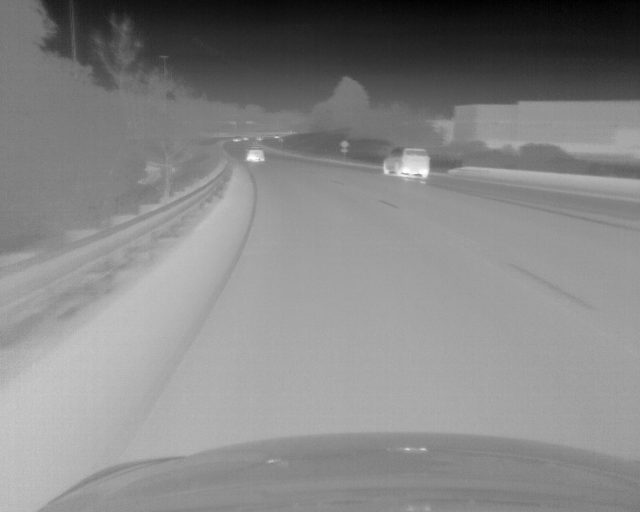car: (381, 148, 430, 177), (246, 147, 266, 161), (232, 136, 242, 143)
